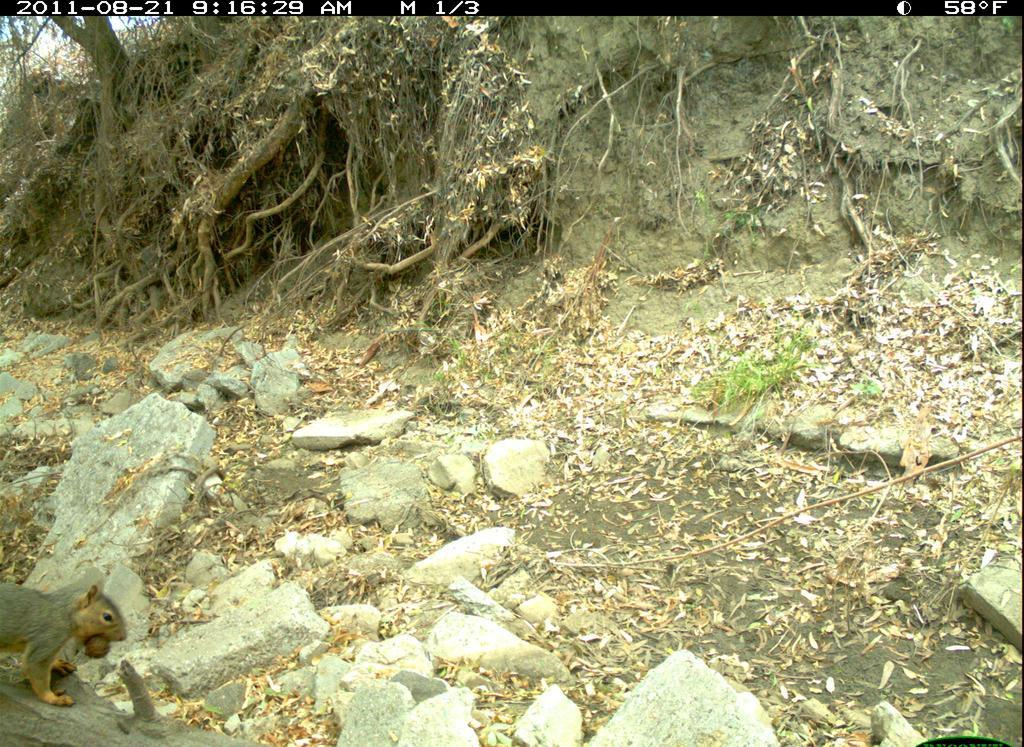squirrel: (3, 571, 130, 715)
